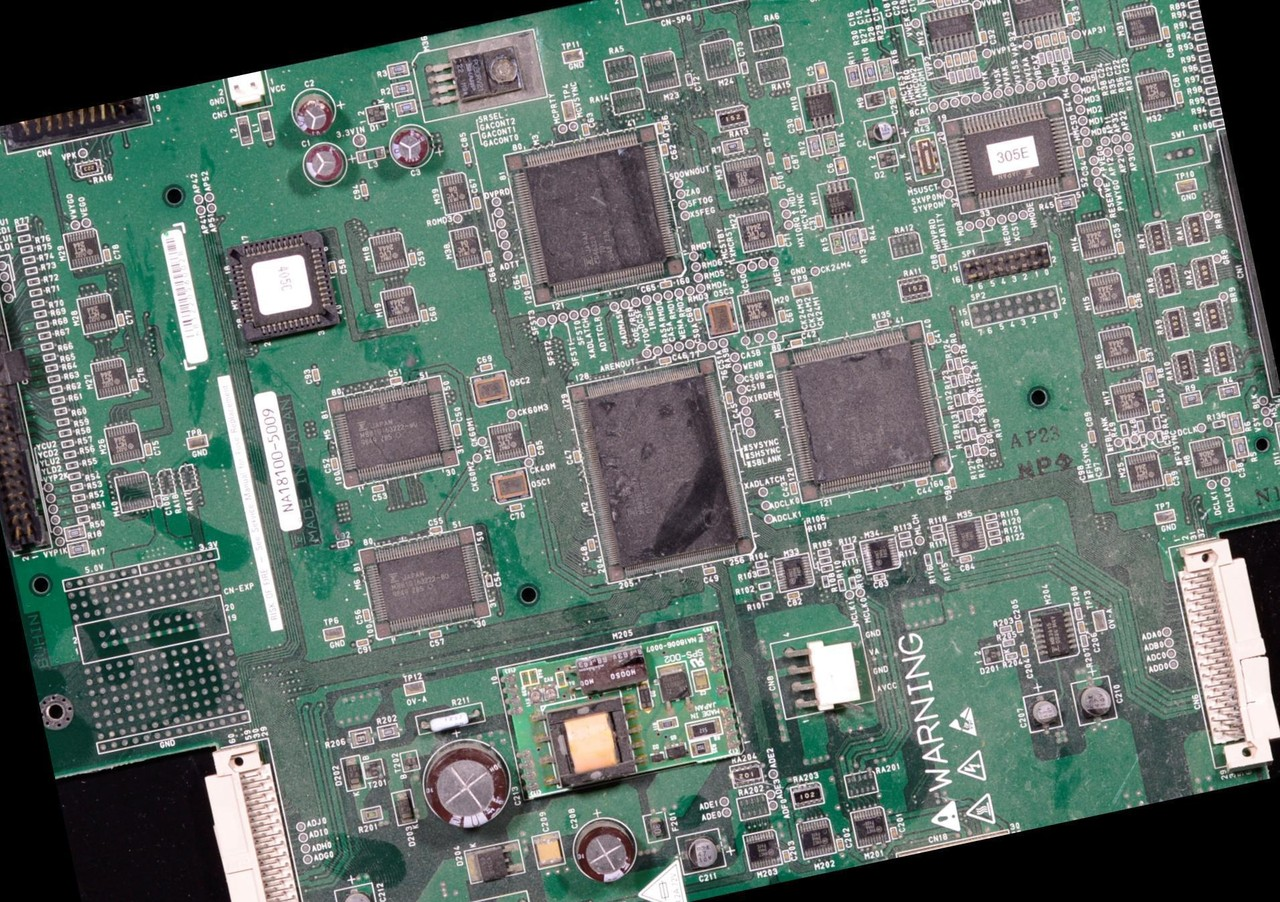Capacitor: (421, 734, 516, 836), (571, 816, 639, 889), (386, 123, 432, 170), (1072, 677, 1116, 722), (292, 92, 337, 136), (302, 141, 345, 186), (679, 830, 721, 871), (529, 832, 569, 874), (1025, 690, 1062, 731), (335, 884, 381, 901), (814, 57, 833, 82), (779, 152, 795, 172), (944, 354, 958, 376), (834, 156, 850, 174), (763, 150, 777, 170), (357, 181, 372, 199), (507, 501, 525, 514), (555, 669, 568, 687), (1135, 346, 1149, 361), (887, 86, 900, 101), (1175, 90, 1188, 105), (1161, 23, 1171, 42), (979, 30, 990, 47), (144, 439, 155, 456), (462, 149, 474, 164), (529, 667, 539, 684), (1127, 292, 1137, 309), (407, 251, 419, 265), (769, 176, 781, 190), (452, 424, 464, 438), (776, 310, 787, 325), (961, 50, 971, 66), (658, 355, 671, 367), (428, 629, 442, 640), (101, 247, 112, 261), (312, 369, 323, 383), (129, 379, 138, 396), (1035, 37, 1045, 52), (655, 121, 665, 136), (571, 450, 581, 465), (117, 310, 126, 326), (684, 73, 695, 86), (586, 538, 596, 552), (582, 123, 592, 137), (738, 60, 747, 75), (1114, 241, 1125, 253), (390, 375, 403, 385), (1021, 644, 1029, 660), (362, 608, 371, 622), (787, 590, 801, 599), (1015, 619, 1024, 633), (528, 444, 537, 458), (371, 485, 385, 494), (960, 554, 972, 564), (944, 56, 954, 68), (520, 273, 530, 285), (481, 363, 493, 373), (1042, 33, 1051, 46), (473, 197, 481, 211), (487, 573, 494, 588), (521, 671, 528, 686), (357, 639, 370, 647), (891, 827, 899, 840), (1065, 10, 1073, 23), (954, 53, 962, 66), (1076, 145, 1084, 158), (431, 524, 442, 533), (933, 0, 944, 9), (947, 477, 955, 489), (873, 572, 885, 580), (836, 838, 844, 850), (970, 50, 978, 62), (484, 251, 492, 263), (939, 254, 947, 266), (330, 458, 338, 470), (927, 332, 935, 344), (704, 567, 717, 574), (791, 339, 804, 346), (725, 391, 733, 402), (917, 480, 929, 487), (1051, 34, 1059, 44), (790, 481, 797, 491), (785, 849, 790, 863), (1060, 32, 1066, 42), (952, 0, 962, 5), (943, 0, 952, 5), (959, 0, 967, 3)
IC: (572, 358, 756, 580), (776, 317, 958, 507), (501, 122, 690, 304), (222, 227, 346, 354), (359, 525, 493, 641), (942, 92, 1068, 212), (332, 376, 460, 487), (1027, 602, 1077, 661), (845, 795, 892, 849), (854, 530, 908, 575), (722, 157, 769, 203), (1123, 451, 1166, 496), (737, 827, 780, 872), (1077, 216, 1120, 261), (770, 550, 815, 592), (486, 419, 531, 461), (1096, 327, 1138, 371), (61, 226, 102, 270), (946, 519, 989, 558), (1109, 379, 1147, 422), (1189, 436, 1229, 476), (92, 357, 131, 397), (104, 422, 143, 462), (113, 474, 155, 511), (75, 296, 115, 334), (799, 815, 836, 854), (738, 210, 774, 248), (1091, 273, 1123, 311)
Resistor: (896, 276, 936, 306), (602, 54, 637, 86), (750, 22, 787, 52), (358, 802, 386, 828), (1175, 387, 1204, 411), (373, 720, 403, 743), (718, 107, 752, 127), (393, 96, 423, 116), (346, 728, 374, 748), (385, 60, 411, 79), (818, 129, 838, 153), (719, 136, 745, 154), (806, 133, 824, 155), (1143, 365, 1160, 388), (878, 58, 894, 82), (391, 80, 413, 97), (66, 541, 88, 558), (1218, 383, 1238, 401), (845, 64, 863, 84), (863, 58, 877, 82), (64, 524, 86, 539), (981, 510, 1002, 524), (1188, 30, 1206, 42), (897, 529, 913, 541), (951, 393, 962, 407), (1039, 52, 1048, 68), (69, 470, 81, 482), (1194, 43, 1208, 53), (898, 538, 913, 547), (16, 222, 31, 231), (48, 386, 63, 395), (1205, 73, 1216, 85), (57, 416, 69, 427), (761, 591, 774, 601), (1062, 47, 1072, 60), (60, 438, 73, 448), (755, 560, 769, 569), (1005, 651, 1019, 660), (20, 245, 34, 254), (29, 287, 43, 296), (1192, 19, 1204, 29), (1199, 53, 1211, 63), (34, 308, 47, 317), (43, 352, 56, 361), (46, 362, 59, 371), (23, 255, 37, 263), (26, 277, 40, 285), (1206, 97, 1220, 105), (54, 407, 68, 415), (62, 450, 76, 458), (758, 568, 770, 577), (1213, 120, 1225, 129), (838, 578, 846, 591), (26, 265, 39, 273), (58, 428, 71, 436), (41, 331, 52, 340), (71, 482, 82, 491), (77, 503, 88, 512), (759, 582, 771, 590), (1053, 48, 1061, 60), (36, 320, 48, 328), (74, 493, 86, 501), (65, 462, 78, 469), (1045, 51, 1053, 62), (31, 298, 42, 306), (53, 395, 64, 403), (78, 516, 90, 523), (42, 342, 52, 350), (1189, 0, 1200, 7), (1211, 110, 1222, 117), (49, 375, 60, 382), (19, 235, 31, 241), (1192, 12, 1201, 17)
Transistor/Diode: (400, 750, 421, 773), (362, 758, 383, 780), (323, 623, 347, 641)
